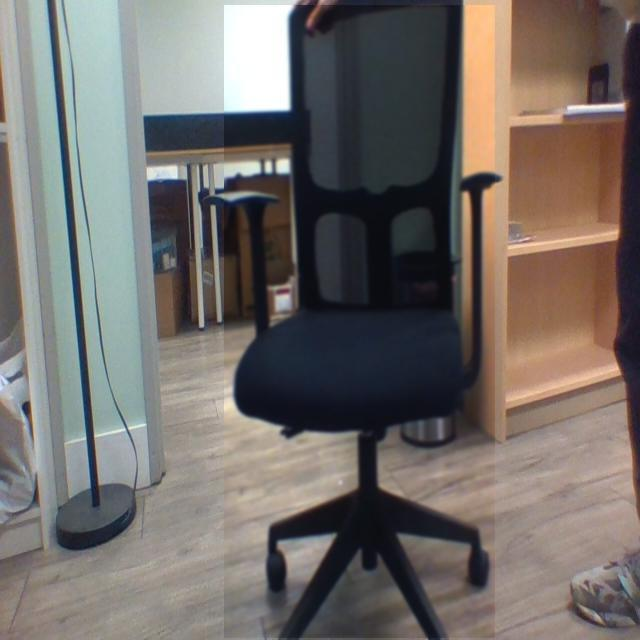chair: (197, 0, 512, 640)
